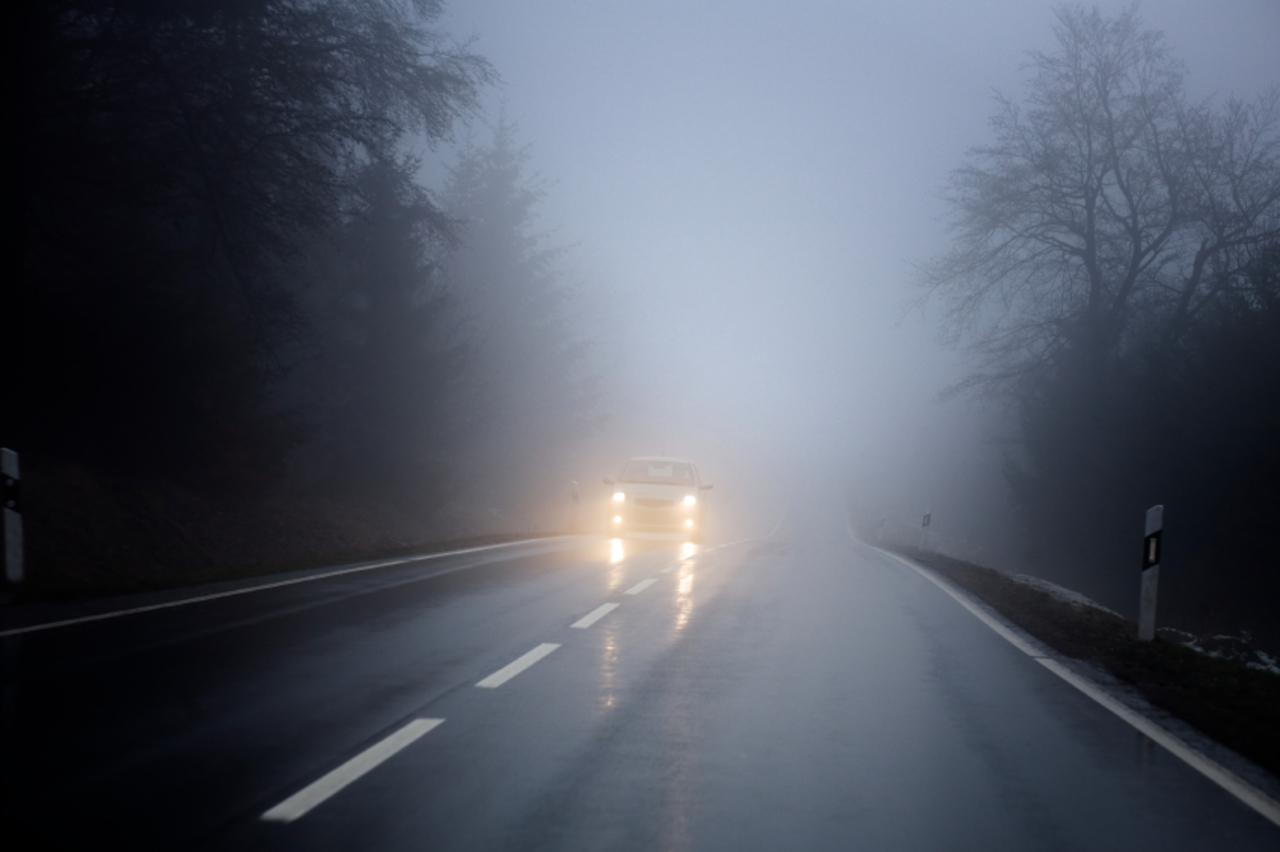car: (598, 452, 712, 543)
